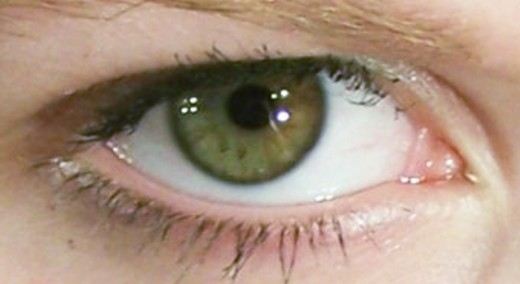iris: (165, 49, 326, 186)
pupil: (227, 84, 274, 130)
